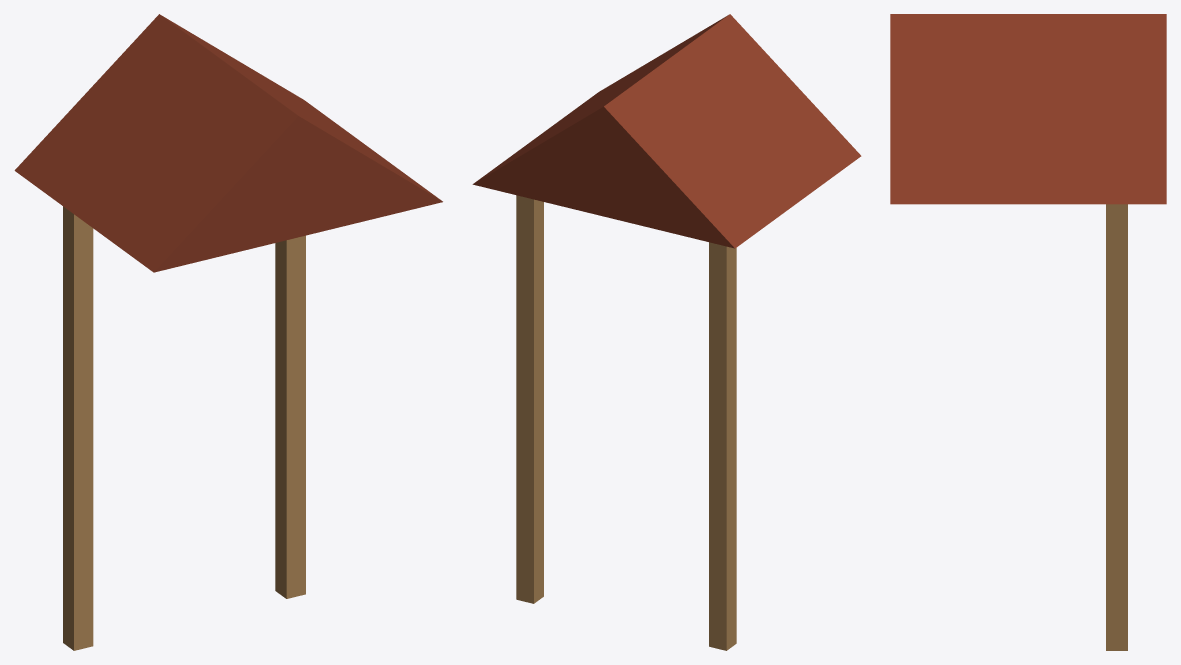
Rendered from opening.extra.porch.glb.
3 views of the same model, side by side, from view 1: azimuth 30°, elevation 25°; view 2: azimuth 150°, elevation 25°; view 3: azimuth 270°, elevation 25° (orthographic). The views are drawn at different scales.
Visible parts, largest first — view 1: main__clay_tile, main__softwood; view 2: main__clay_tile, main__softwood; view 3: main__clay_tile, main__softwood.
Boxes of the visible parts, bbox=[...] form: main__clay_tile: bbox=[14, 14, 442, 272]; main__softwood: bbox=[63, 206, 305, 650]; main__clay_tile: bbox=[472, 14, 861, 248]; main__softwood: bbox=[516, 195, 736, 650]; main__clay_tile: bbox=[890, 14, 1166, 204]; main__softwood: bbox=[1106, 204, 1127, 650].
Bounding box in the file's own units: 1.5 × 2.9 × 1.25.
